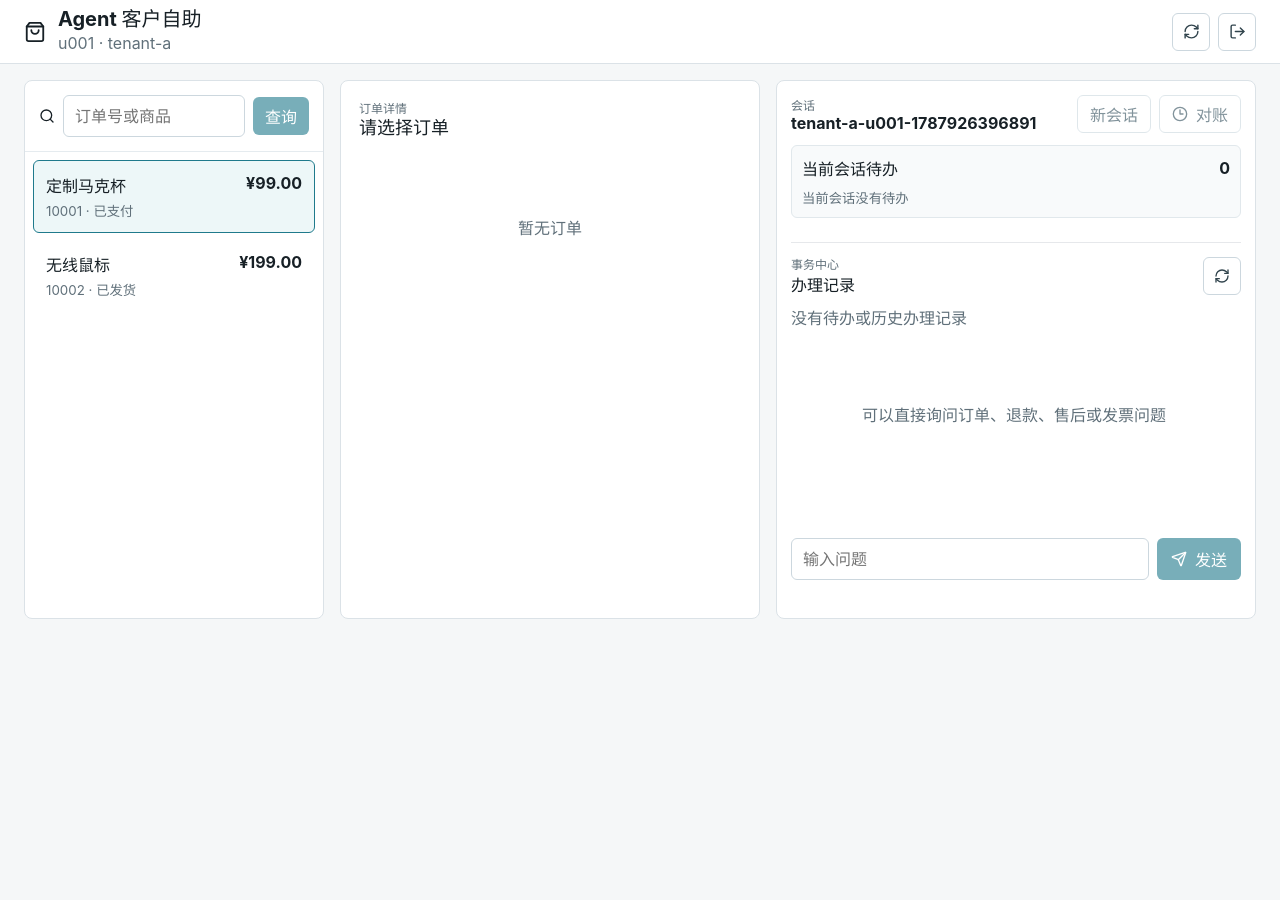
full product journey › keeps the chat composer operable while order details are still loading
Type "我买过什么？" into the field labelled "输入问题" at (970, 559), box [791, 538, 1149, 580]
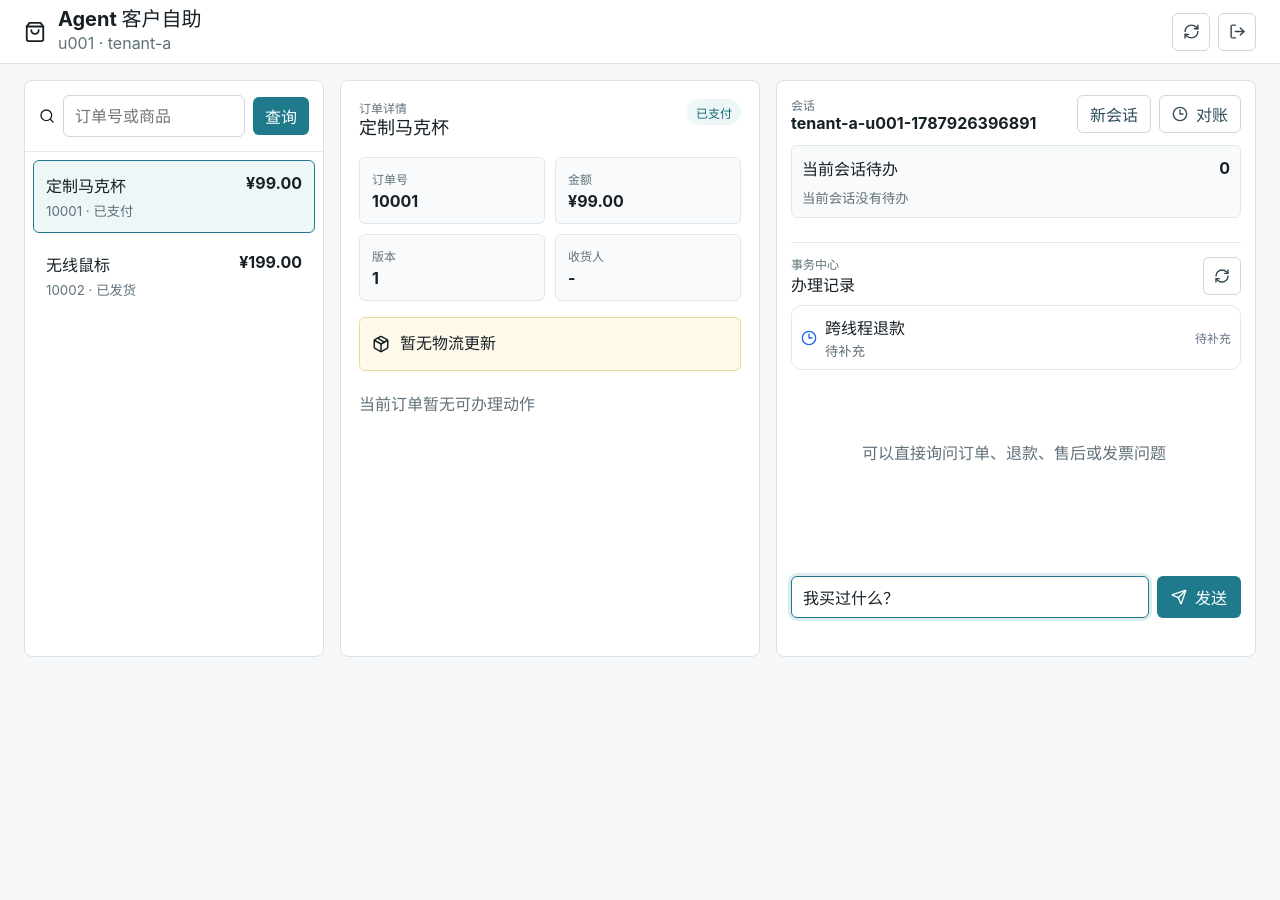
Expected: the button "发送" is enabled, [1157, 576, 1241, 618]
